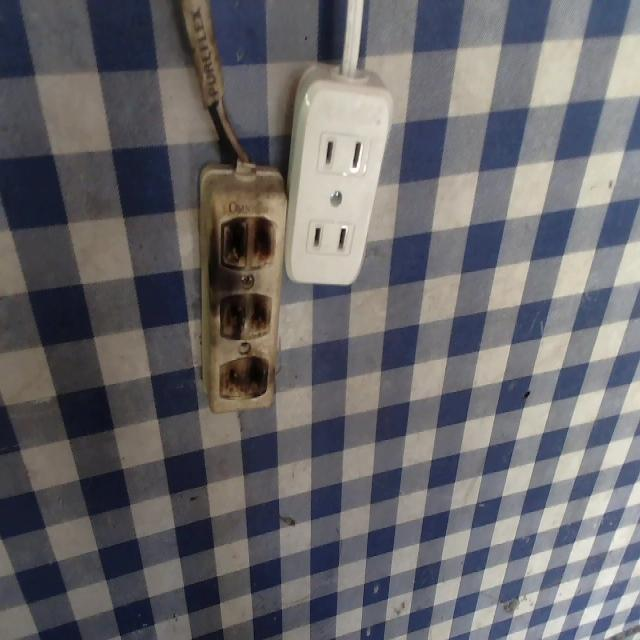-: (214, 207, 278, 277), (217, 290, 274, 346), (218, 357, 278, 403)
